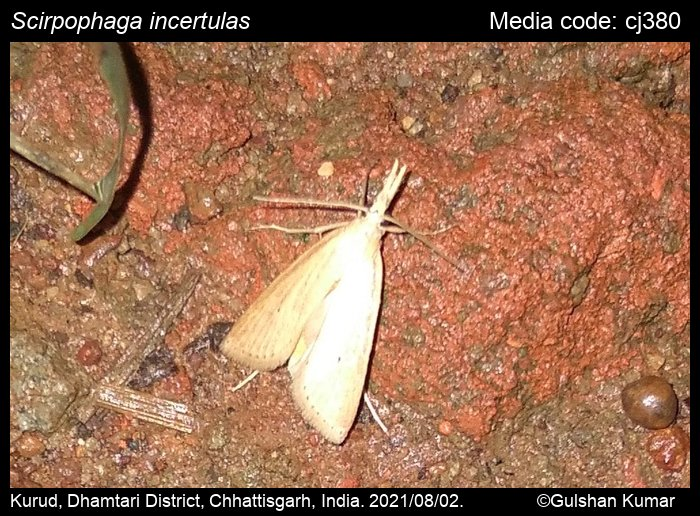Crambidae: (219, 162, 441, 447)
